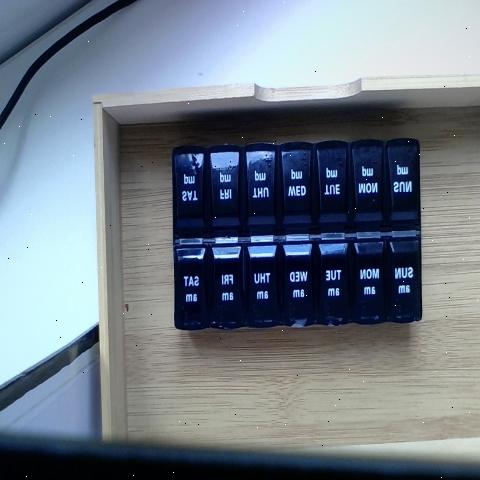FRI-am: (213, 237, 246, 326)
FRI-pm: (211, 145, 246, 236)
MON-am: (353, 236, 388, 323)
MON-pm: (354, 136, 386, 226)
SAT-am: (175, 239, 213, 325)
SAT-pm: (176, 145, 210, 236)
SUN-am: (389, 233, 421, 319)
SUN-pm: (386, 137, 419, 227)
THU-am: (248, 235, 284, 327)
THU-pm: (247, 141, 281, 232)
TUE-am: (319, 236, 354, 324)
TUE-pm: (318, 139, 351, 231)
WED-am: (285, 233, 318, 328)
WED-pm: (283, 142, 315, 232)
